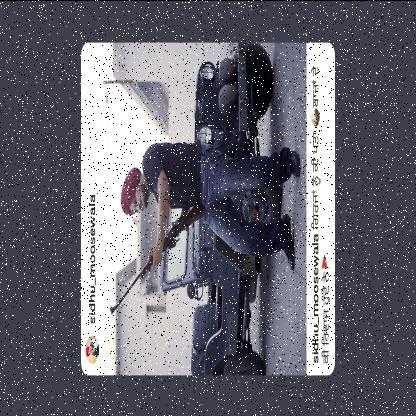rifle: (108, 199, 208, 315)
